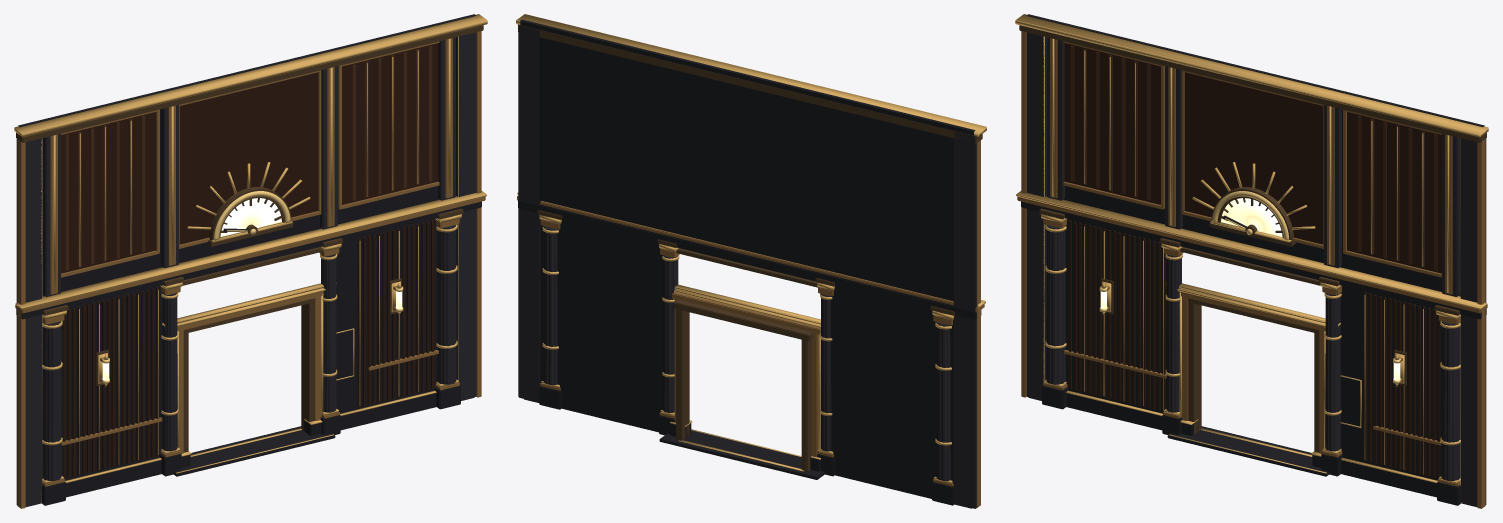
File: elevator_lobby_facade.glb
3 views of the same model, side by side, from view 1: azimuth 30°, elevation 25°; view 2: azimuth 150°, elevation 25°; view 3: azimuth 330°, elevation 25° (orthographic).
Parts seen in each view (by area): view 1: elevator_lobby_facade_walnut_dk, elevator_lobby_facade_obsidian, elevator_lobby_facade_nero, elevator_lobby_facade_brass, elevator_lobby_facade_bronze, elevator_lobby_facade_bronze_dk, elevator_lobby_facade_walnut, elevator_lobby_facade_dial_face, elevator_lobby_facade_brass_hi; view 2: elevator_lobby_facade_obsidian, elevator_lobby_facade_nero, elevator_lobby_facade_bronze_dk, elevator_lobby_facade_bronze, elevator_lobby_facade_brass; view 3: elevator_lobby_facade_walnut_dk, elevator_lobby_facade_obsidian, elevator_lobby_facade_nero, elevator_lobby_facade_brass, elevator_lobby_facade_bronze, elevator_lobby_facade_bronze_dk, elevator_lobby_facade_walnut, elevator_lobby_facade_dial_face, elevator_lobby_facade_brass_hi.
Part boxes in pixels (left/top/right/bottom): elevator_lobby_facade_walnut_dk: left=61, top=43, right=438, bottom=478; elevator_lobby_facade_obsidian: left=16, top=14, right=481, bottom=506; elevator_lobby_facade_nero: left=16, top=32, right=476, bottom=506; elevator_lobby_facade_brass: left=14, top=14, right=487, bottom=502; elevator_lobby_facade_bronze: left=15, top=31, right=485, bottom=508; elevator_lobby_facade_bronze_dk: left=16, top=25, right=483, bottom=452; elevator_lobby_facade_walnut: left=65, top=46, right=432, bottom=270; elevator_lobby_facade_dial_face: left=220, top=198, right=281, bottom=236; elevator_lobby_facade_brass_hi: left=102, top=191, right=403, bottom=383; elevator_lobby_facade_obsidian: left=518, top=19, right=981, bottom=508; elevator_lobby_facade_nero: left=518, top=25, right=976, bottom=508; elevator_lobby_facade_bronze_dk: left=518, top=24, right=982, bottom=471; elevator_lobby_facade_bronze: left=517, top=140, right=984, bottom=508; elevator_lobby_facade_brass: left=516, top=14, right=986, bottom=483; elevator_lobby_facade_walnut_dk: left=1064, top=43, right=1441, bottom=478; elevator_lobby_facade_obsidian: left=1021, top=14, right=1486, bottom=506; elevator_lobby_facade_nero: left=1026, top=32, right=1486, bottom=506; elevator_lobby_facade_brass: left=1015, top=14, right=1488, bottom=502; elevator_lobby_facade_bronze: left=1017, top=31, right=1487, bottom=508; elevator_lobby_facade_bronze_dk: left=1019, top=25, right=1486, bottom=452; elevator_lobby_facade_walnut: left=1070, top=46, right=1437, bottom=270; elevator_lobby_facade_dial_face: left=1221, top=198, right=1282, bottom=236; elevator_lobby_facade_brass_hi: left=1099, top=191, right=1400, bottom=383.
Size of the model in its own units: 9.14 by 7.15 by 0.62.
